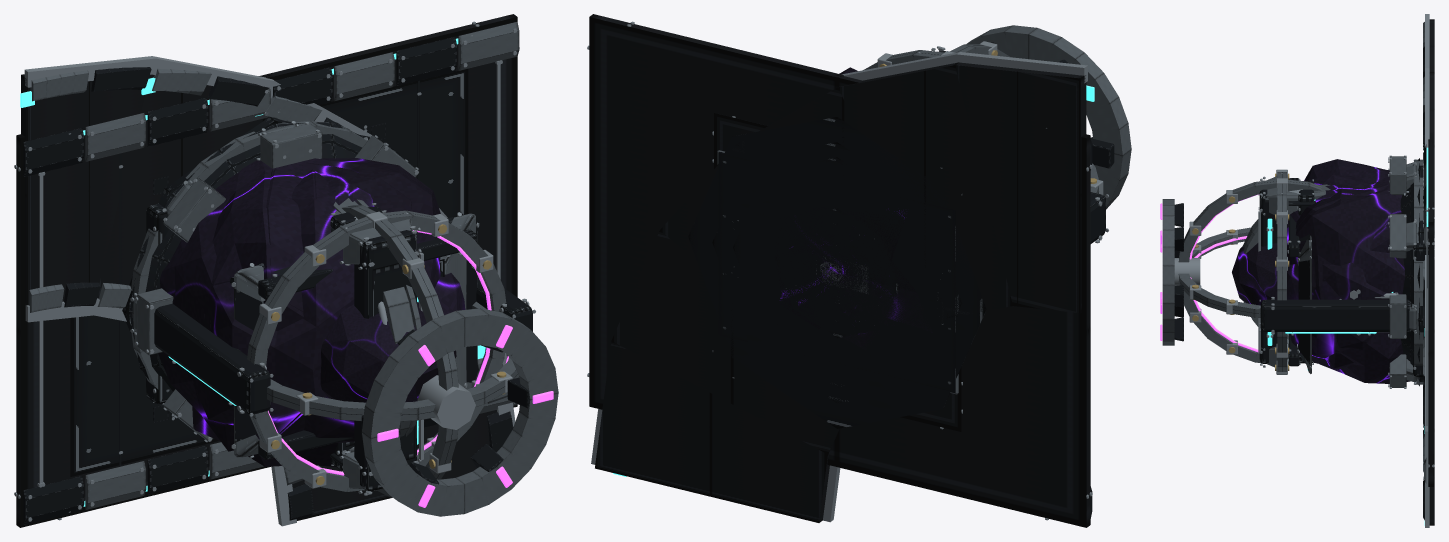
Rendered from world-high.glb.
3 renders of one model, left to right at view 1: azimuth 30°, elevation 25°; view 2: azimuth 150°, elevation 25°; view 3: azimuth 270°, elevation 25°, orthographic. The views are drawn at different scales.
Visible parts, largest first — view 1: track-straight-root / Ceramic graphite, reactor-root / Brushed pale alloy, track-bend-root / Quiet graphite road, track-straight-root / Quiet graphite road, ore-small-root / Veined natural slate, reactor-root / Ceramic graphite, ore-captured-root / Veined natural slate, track-straight-root / Brushed pale alloy, Gimbal bearing.002 / Brushed pale alloy, ore-medium-root / Veined natural slate, pit-station-root / Ceramic graphite, Suspended mineral core / Violet crystal (+18 smaller); view 2: track-bend-root / Quiet graphite road, track-straight-root / Quiet graphite road, reactor-root / Ceramic graphite, gate-marker-root / Ceramic graphite, pit-station-root / Ceramic graphite, deposit-root / Ceramic graphite, drop-crystal-root / Ceramic graphite, reactor-root / Brushed pale alloy, drop-capsule-root / Ceramic graphite, track-bend-root / Titanium edges, ore-large-root / Veined natural slate, finish-arch-root / Ceramic graphite (+5 smaller); view 3: ore-medium-root / Veined natural slate, reactor-root / Ceramic graphite, reactor-root / Brushed pale alloy, ore-large-root / Veined natural slate, Gimbal bearing / Brushed pale alloy, Suspended mineral core / Violet crystal, track-straight-root / Quiet graphite road, pit-station-root / Ceramic graphite, track-bend-root / Titanium edges, Gimbal bearing.001 / Brushed pale alloy, Gimbal bearing.002 / Brushed pale alloy, track-bend-root / Quiet graphite road (+15 smaller).
Boxes of the visible parts, bbox=[...] form: track-straight-root / Ceramic graphite: bbox=[23, 37, 468, 525]; reactor-root / Brushed pale alloy: bbox=[131, 121, 558, 516]; track-bend-root / Quiet graphite road: bbox=[21, 74, 496, 520]; track-straight-root / Quiet graphite road: bbox=[16, 14, 517, 527]; ore-small-root / Veined natural slate: bbox=[158, 169, 440, 451]; reactor-root / Ceramic graphite: bbox=[122, 117, 532, 484]; ore-captured-root / Veined natural slate: bbox=[160, 160, 411, 466]; track-straight-root / Brushed pale alloy: bbox=[85, 21, 519, 509]; Gimbal bearing.002 / Brushed pale alloy: bbox=[247, 210, 506, 491]; ore-medium-root / Veined natural slate: bbox=[173, 158, 456, 437]; pit-station-root / Ceramic graphite: bbox=[146, 147, 477, 459]; Suspended mineral core / Violet crystal: bbox=[320, 301, 438, 402]; track-bend-root / Quiet graphite road: bbox=[595, 62, 1086, 522]; track-straight-root / Quiet graphite road: bbox=[589, 14, 1090, 527]; reactor-root / Ceramic graphite: bbox=[688, 42, 1114, 428]; gate-marker-root / Ceramic graphite: bbox=[712, 142, 961, 402]; pit-station-root / Ceramic graphite: bbox=[717, 150, 958, 394]; deposit-root / Ceramic graphite: bbox=[733, 157, 938, 386]; drop-crystal-root / Ceramic graphite: bbox=[776, 209, 898, 336]; reactor-root / Brushed pale alloy: bbox=[966, 25, 1131, 209]; drop-capsule-root / Ceramic graphite: bbox=[775, 208, 899, 338]; track-bend-root / Titanium edges: bbox=[591, 52, 1087, 522]; ore-large-root / Veined natural slate: bbox=[775, 212, 925, 346]; finish-arch-root / Ceramic graphite: bbox=[808, 141, 866, 404]; ore-medium-root / Veined natural slate: bbox=[1287, 161, 1410, 383]; reactor-root / Ceramic graphite: bbox=[1174, 158, 1434, 386]; reactor-root / Brushed pale alloy: bbox=[1162, 156, 1423, 387]; ore-large-root / Veined natural slate: bbox=[1287, 176, 1389, 369]; Gimbal bearing / Brushed pale alloy: bbox=[1178, 179, 1321, 364]; Suspended mineral core / Violet crystal: bbox=[1232, 243, 1277, 305]; track-straight-root / Quiet graphite road: bbox=[1428, 132, 1433, 486]; pit-station-root / Ceramic graphite: bbox=[1289, 178, 1434, 376]; track-bend-root / Titanium edges: bbox=[1425, 14, 1429, 527]; Gimbal bearing.001 / Brushed pale alloy: bbox=[1178, 227, 1260, 317]; Gimbal bearing.002 / Brushed pale alloy: bbox=[1277, 172, 1286, 371]; track-bend-root / Quiet graphite road: bbox=[1429, 19, 1434, 525].
Bounding box in the file's own units: 4 × 4 × 2.8.
12 materials, 5 textured.
